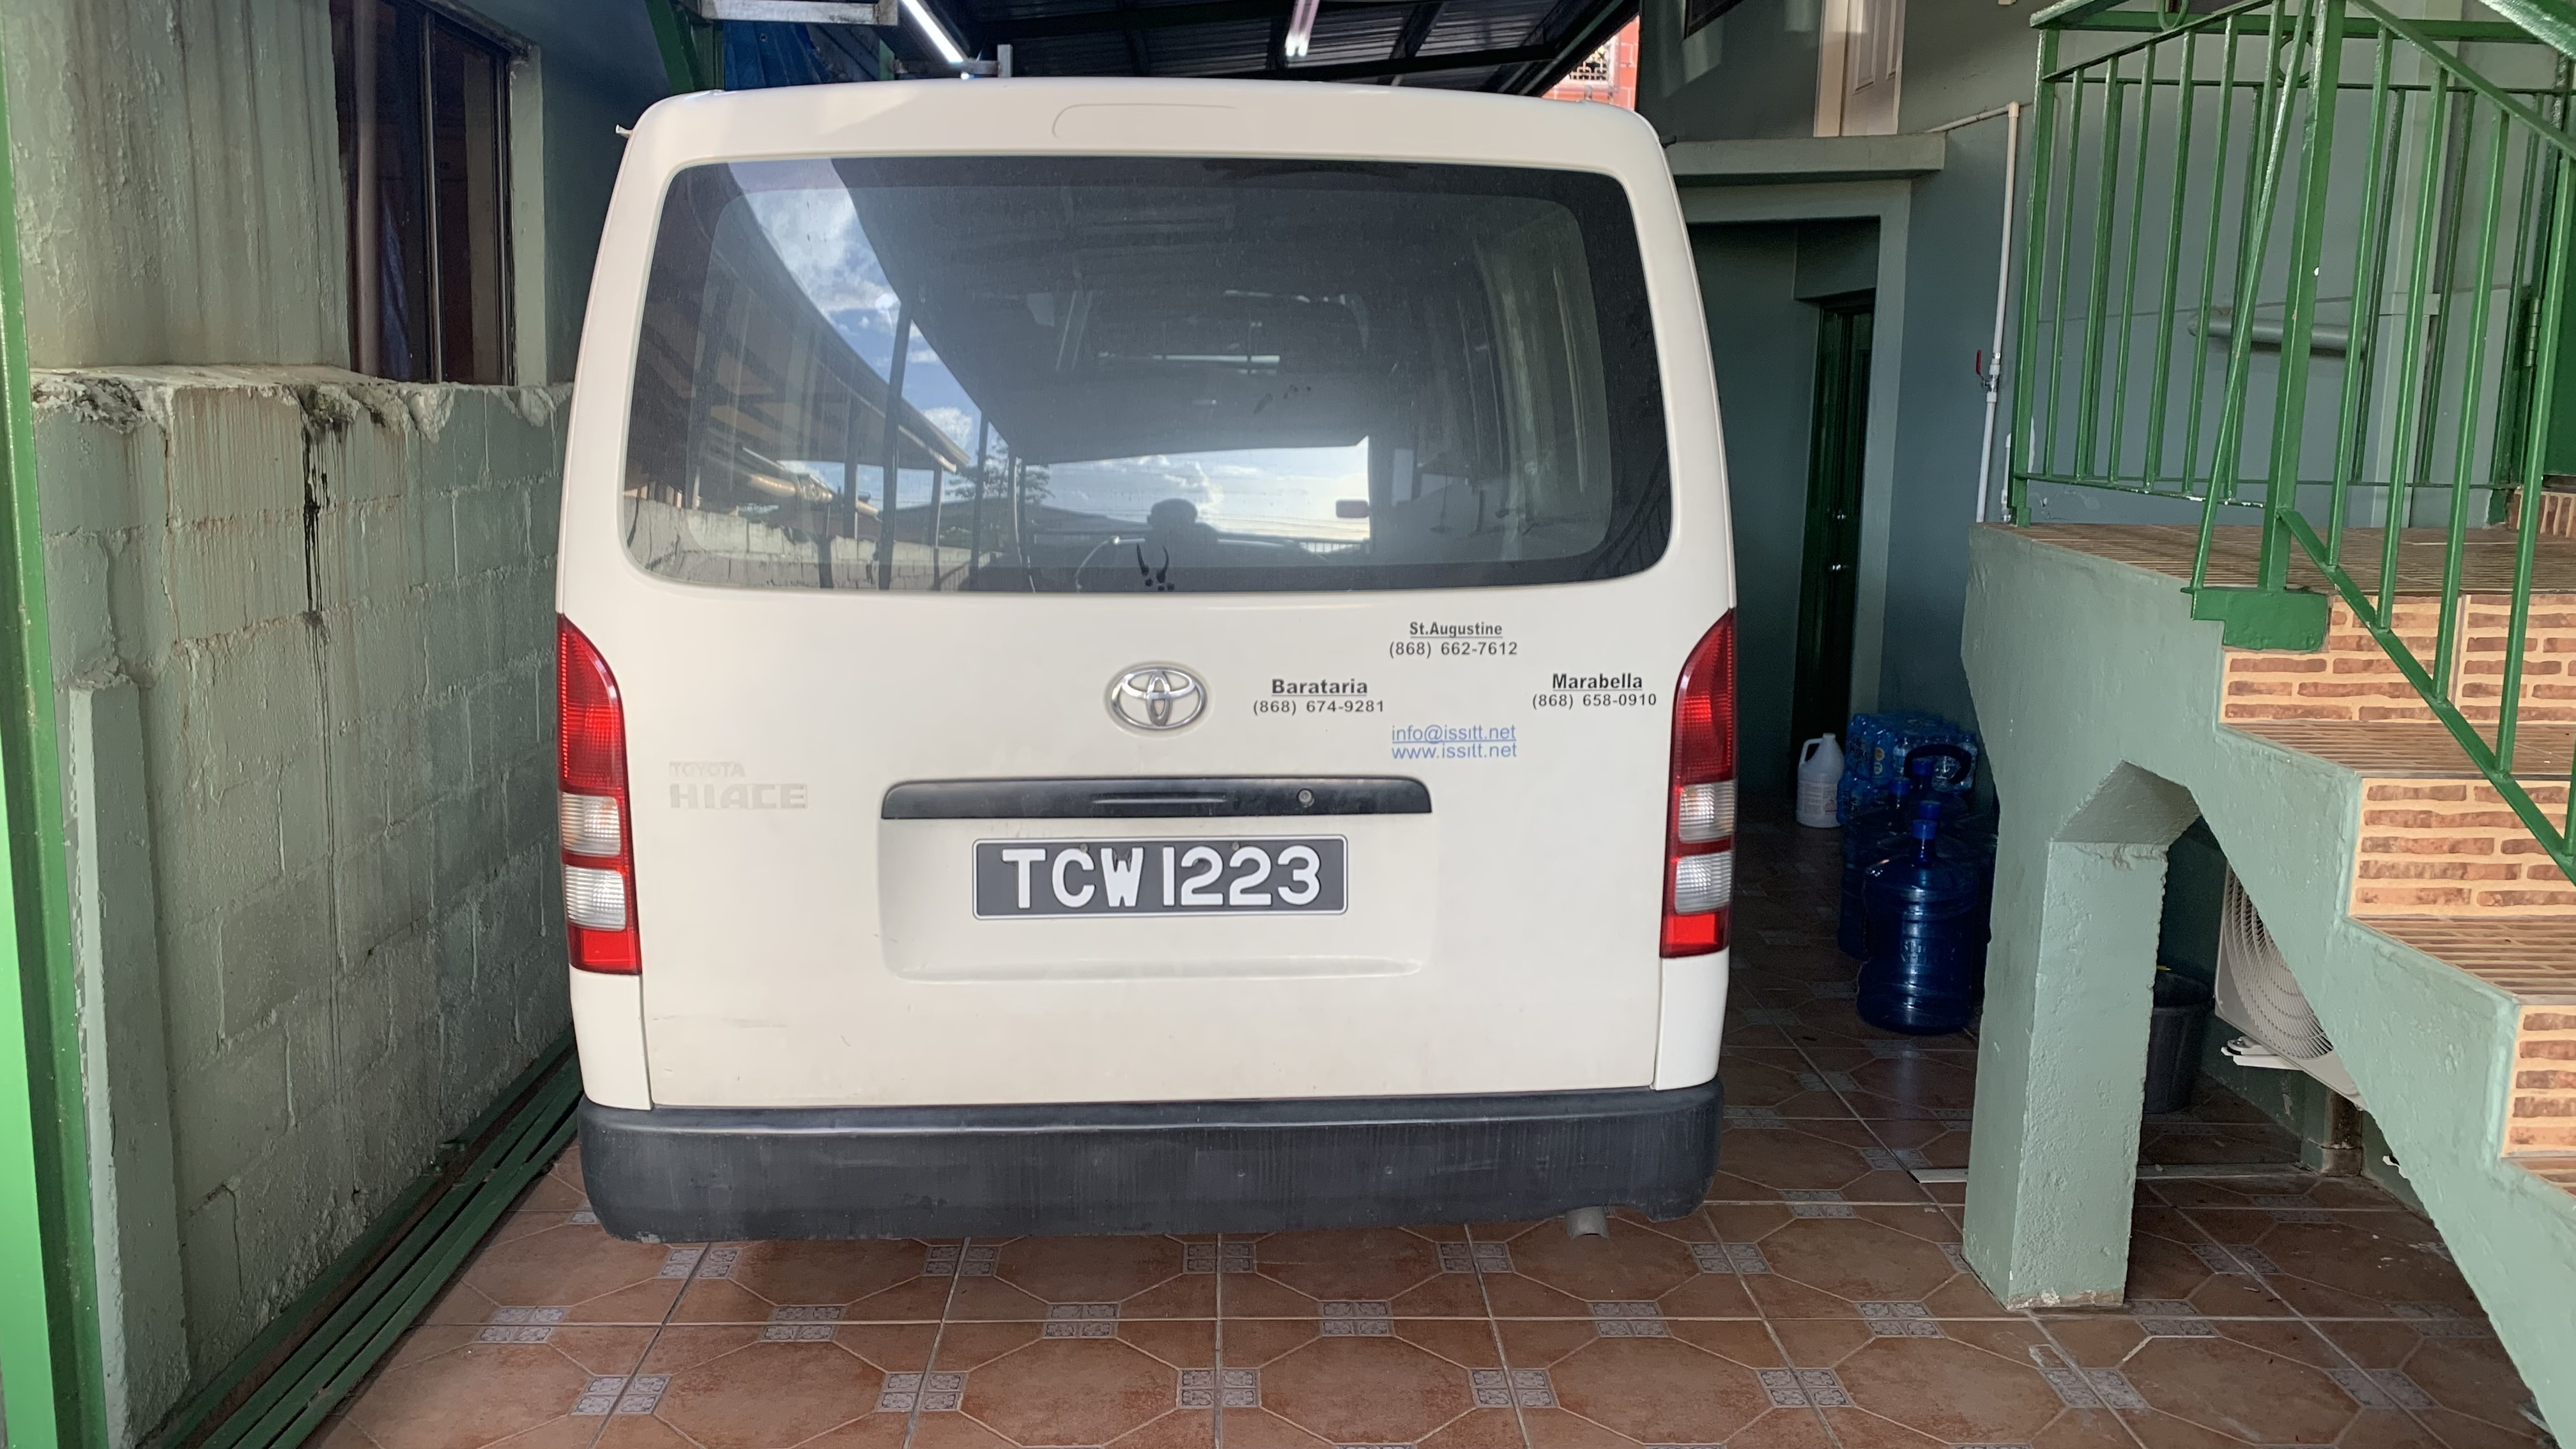License-Plate: (976, 841, 1344, 916)
